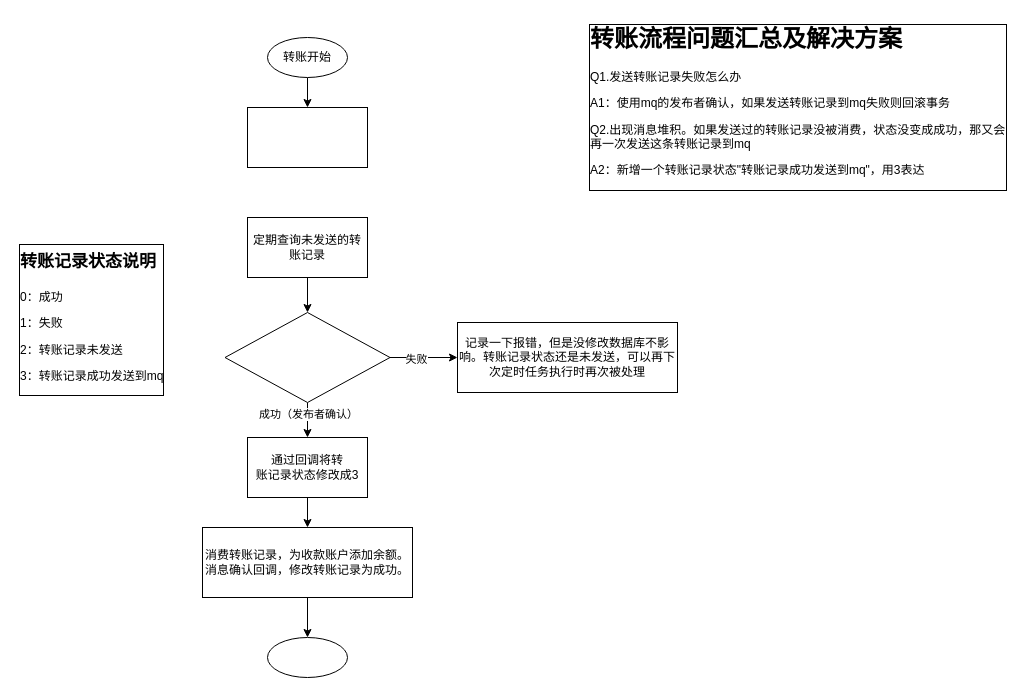
Image size: 1024x695. Some labels were removed from this diagram. The centre of each missing label's shape, as x and y in pixels:
"发起转账，扣除发起者账户余额" goes at [307,137].
"发送转账记录" goes at [307,357].
"转账结束" goes at [307,657].
